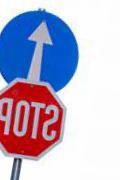forward: (1, 9, 79, 81)
